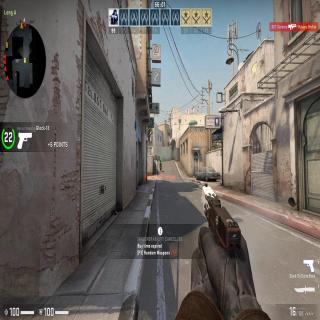CT-Body: (159, 158, 163, 170)
CT-Head: (160, 158, 161, 162)
